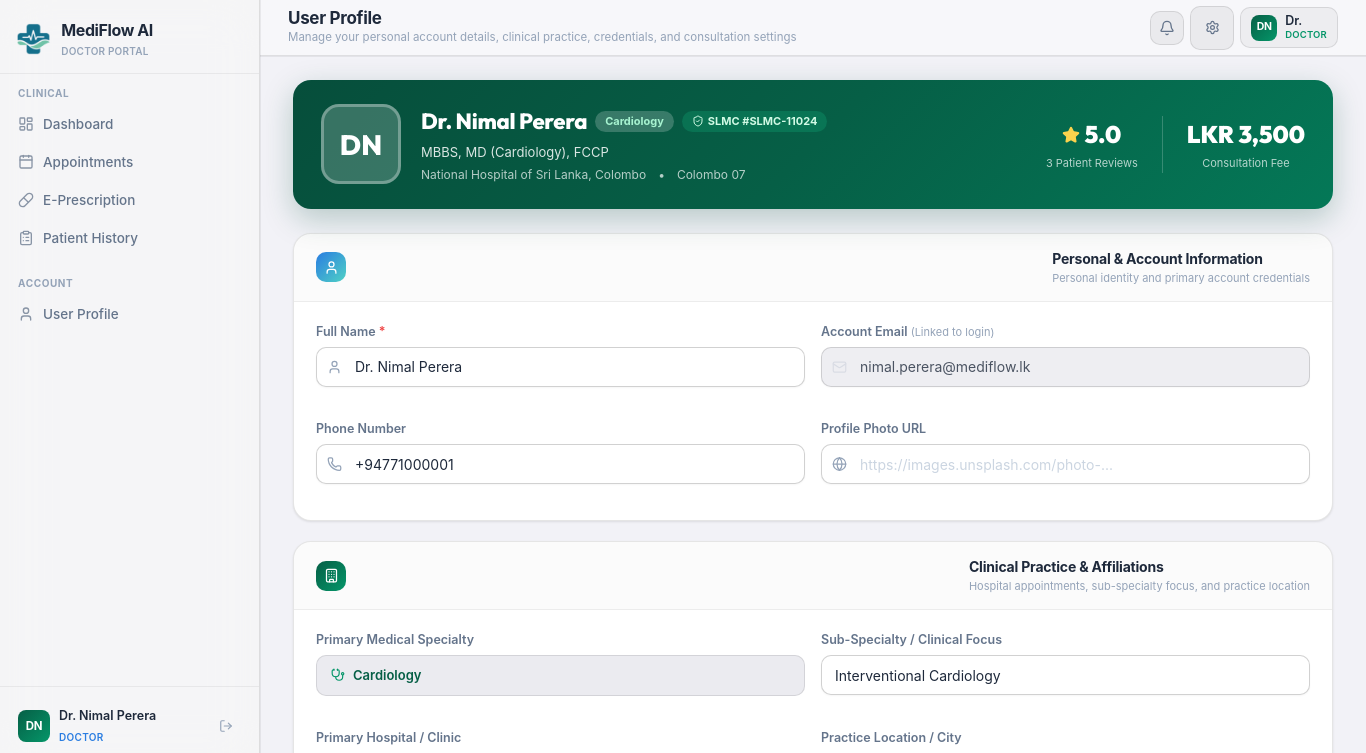
Test: Doctor Profile Page Updates › validates required doctor full name field
The width and height of the screenshot is (1366, 753).
Clear the field labelled "Full Name *" at (560, 367), box [316, 347, 805, 387]
(page scrolled)
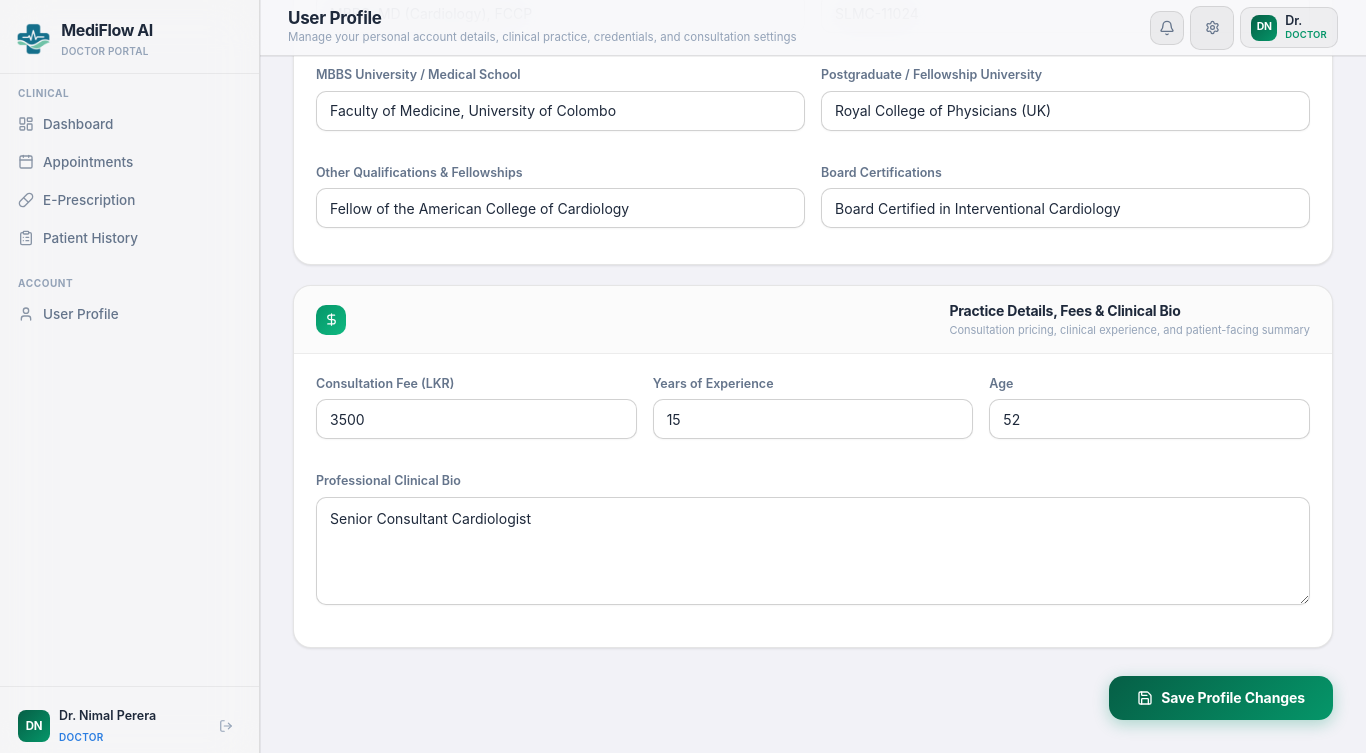
Click the button "Save Profile Changes" at (1221, 698), box [1109, 676, 1333, 720]
(page scrolled)
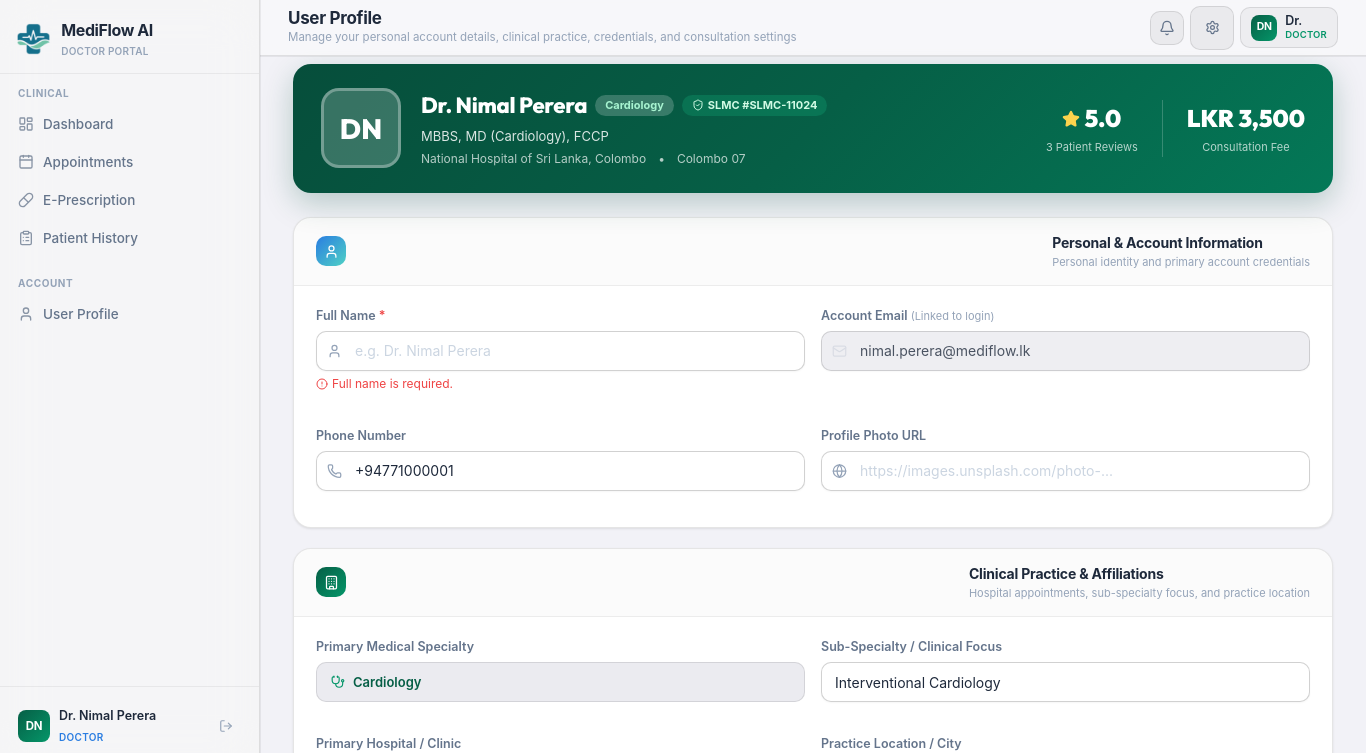
Expected: the text "Full name is required." is shown, [316, 376, 453, 391]
